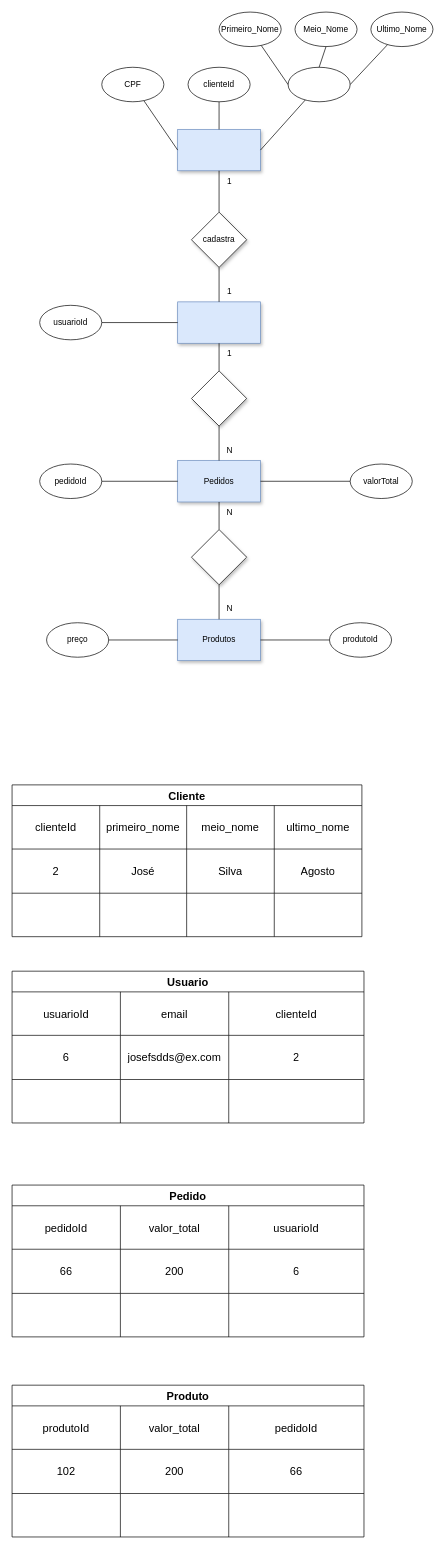
Some shapes in this 445 by 1549 pixel diagram are drawn without their labels. The centre of each missing label's shape, as x and y in pixels:
"Clientes" belongs at (219,151).
"Nome" belongs at (318,84).
"possui" belongs at (219,558).
"realiza" belongs at (219,399).
"Usuarios" belongs at (219,323).
